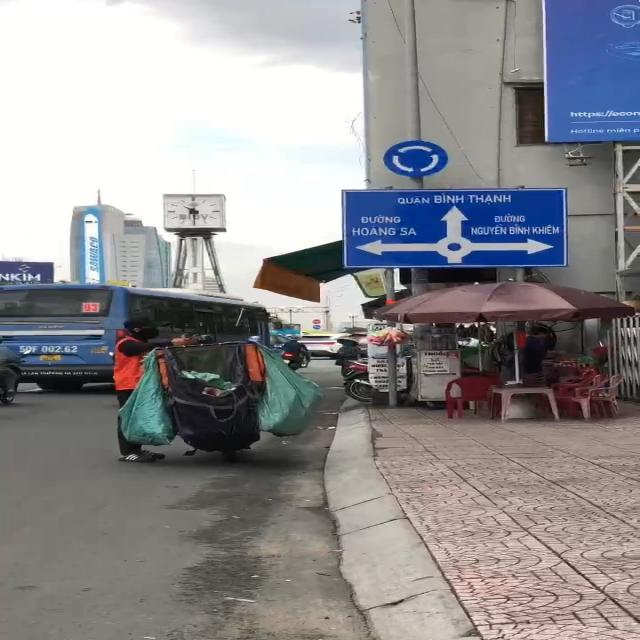Bien bao noi giao nhau chay theo vong xuyen: (379, 140, 455, 178)
